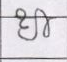i_matra: (36, 8, 52, 37)
